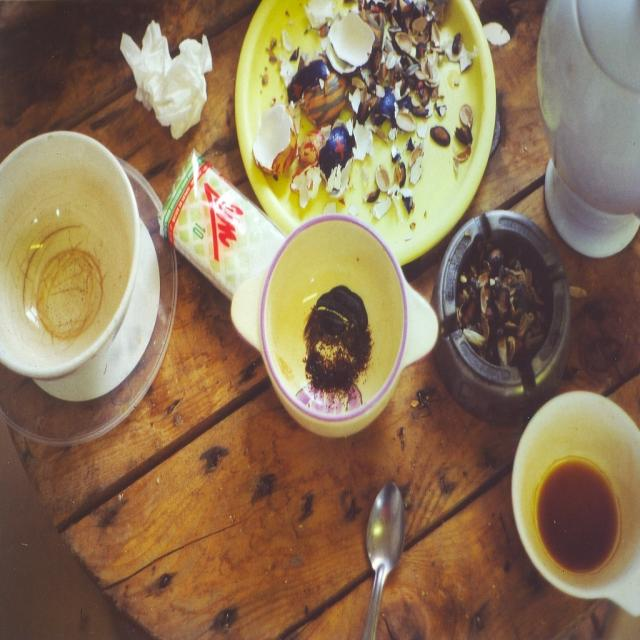Tea: (540, 458, 619, 579)
